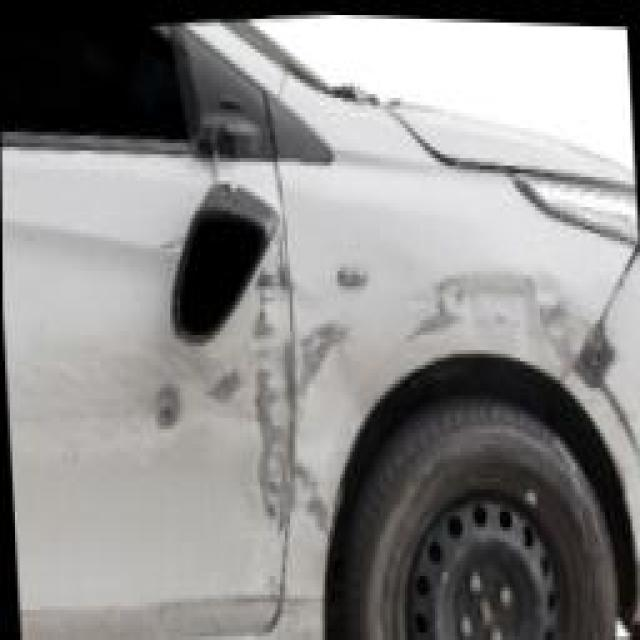Bumper: (588, 237, 640, 606)
Door: (0, 147, 301, 640)
Fender: (295, 166, 587, 413)
